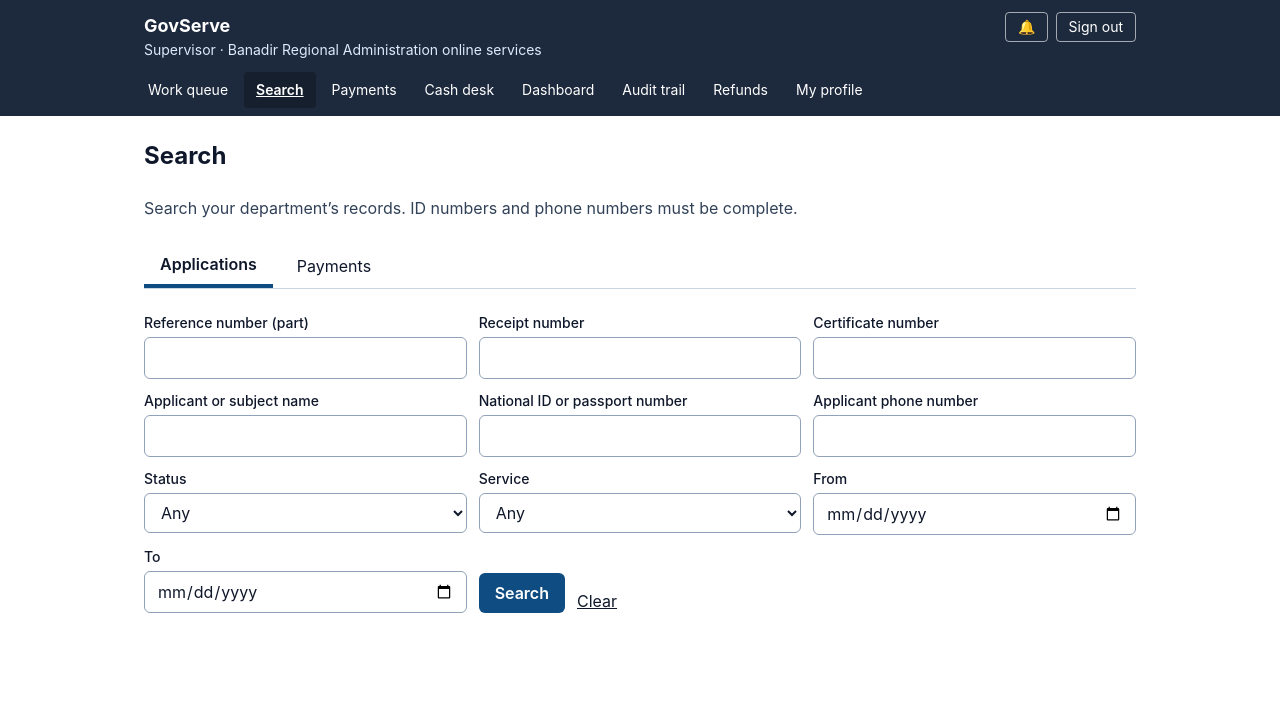
Test case: staff search › should convert the amount range to integer cents and offer supervisors the export
The width and height of the screenshot is (1280, 720).
Click the tab "Payments" at (334, 266), box [281, 244, 387, 288]
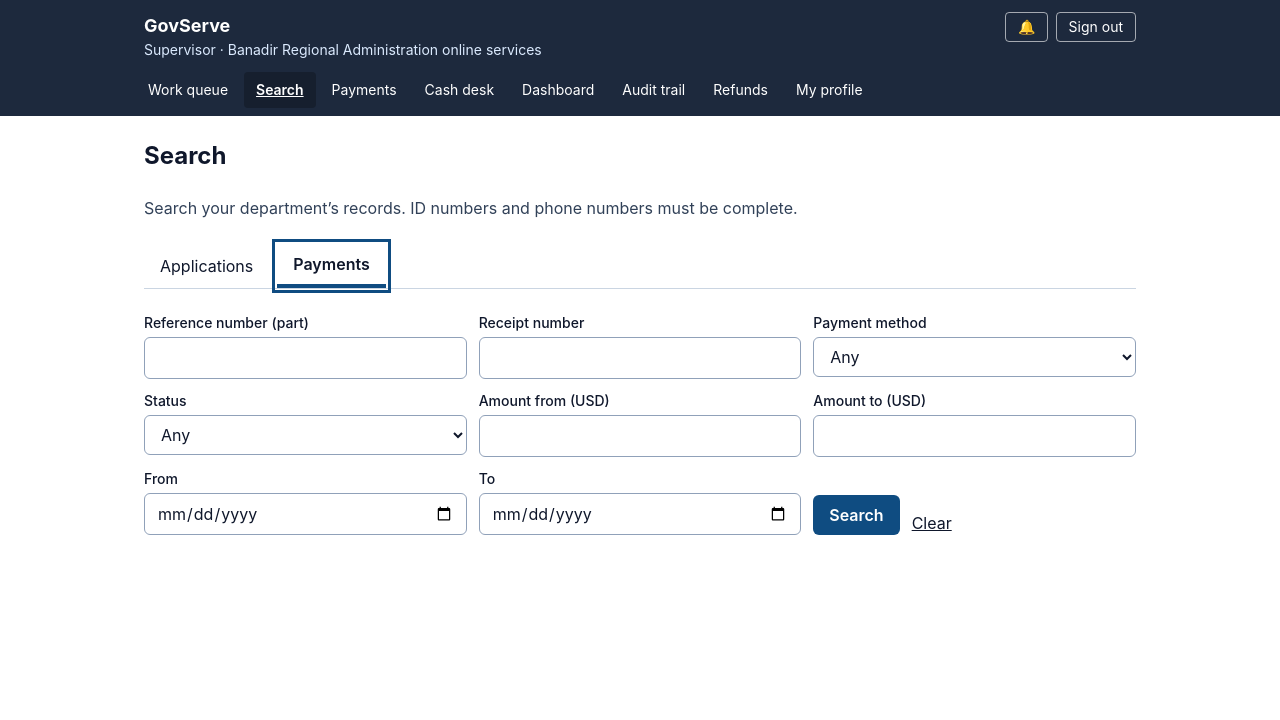
Type "0.1" into the field labelled "Amount from (USD)" at (640, 436), box [479, 415, 801, 457]
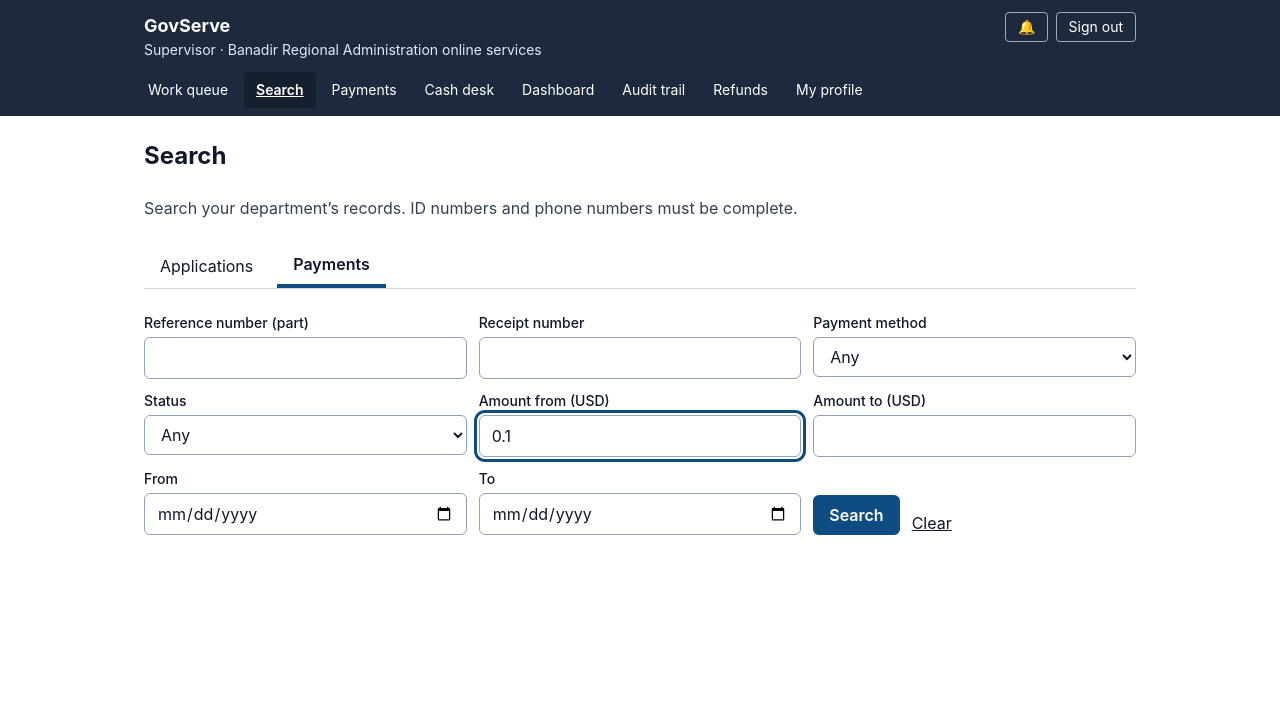
Click the button "Search" at (856, 515), box [813, 495, 900, 535]
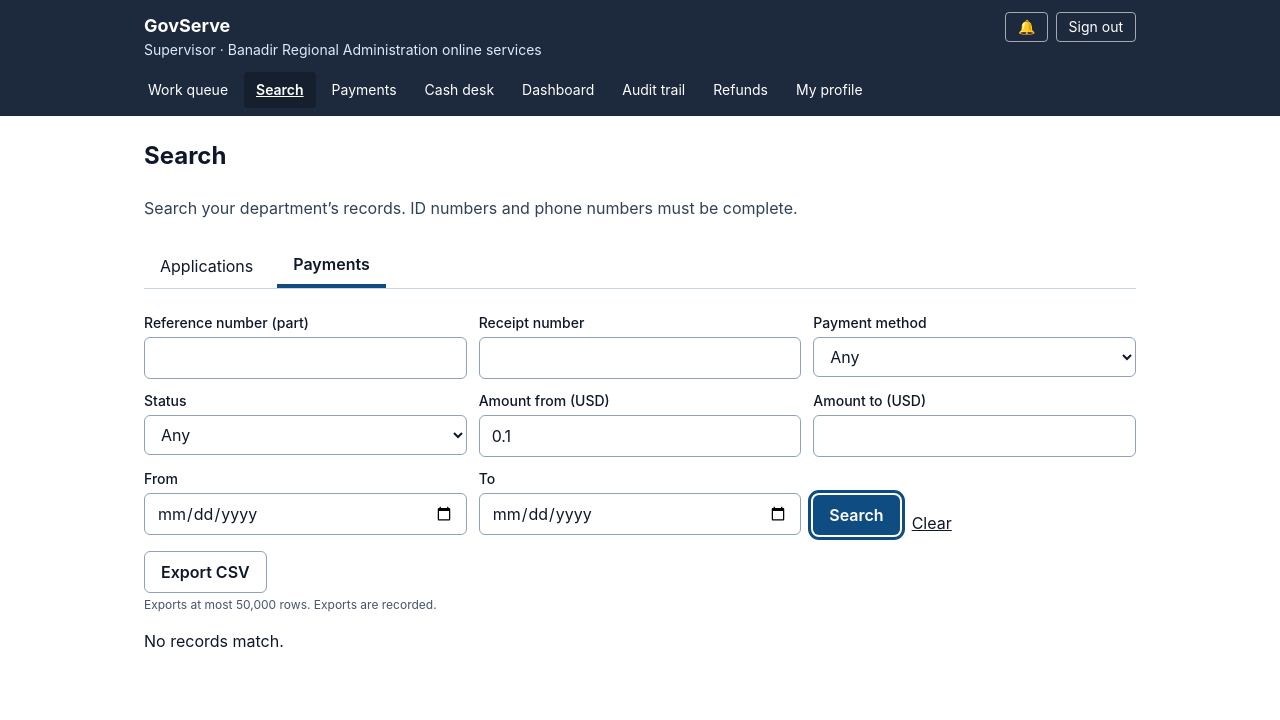
Now the text "No records match." is shown, box [144, 631, 284, 651]
Now the button "Export CSV" is shown, box [144, 551, 267, 593]
Type "12.345" into the field labelled "Amount to (USD)" at (975, 436), box [813, 415, 1136, 457]
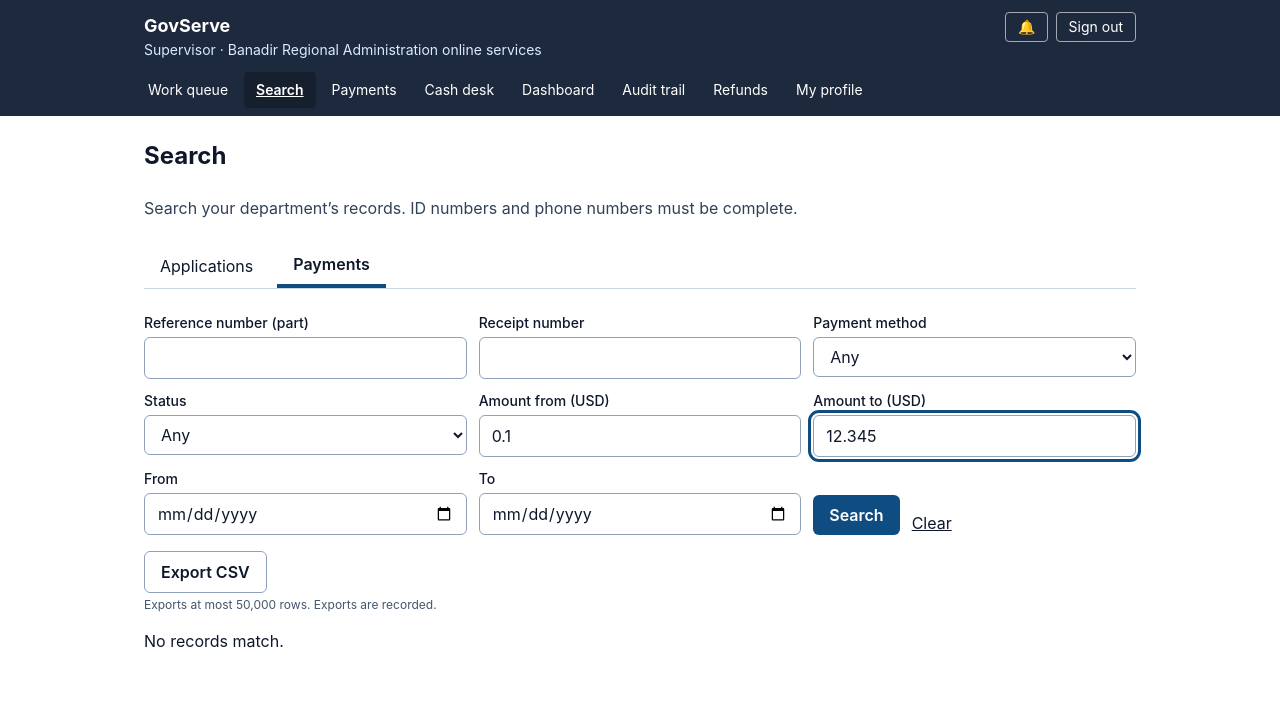
Click the button "Search" at (856, 515), box [813, 495, 900, 535]
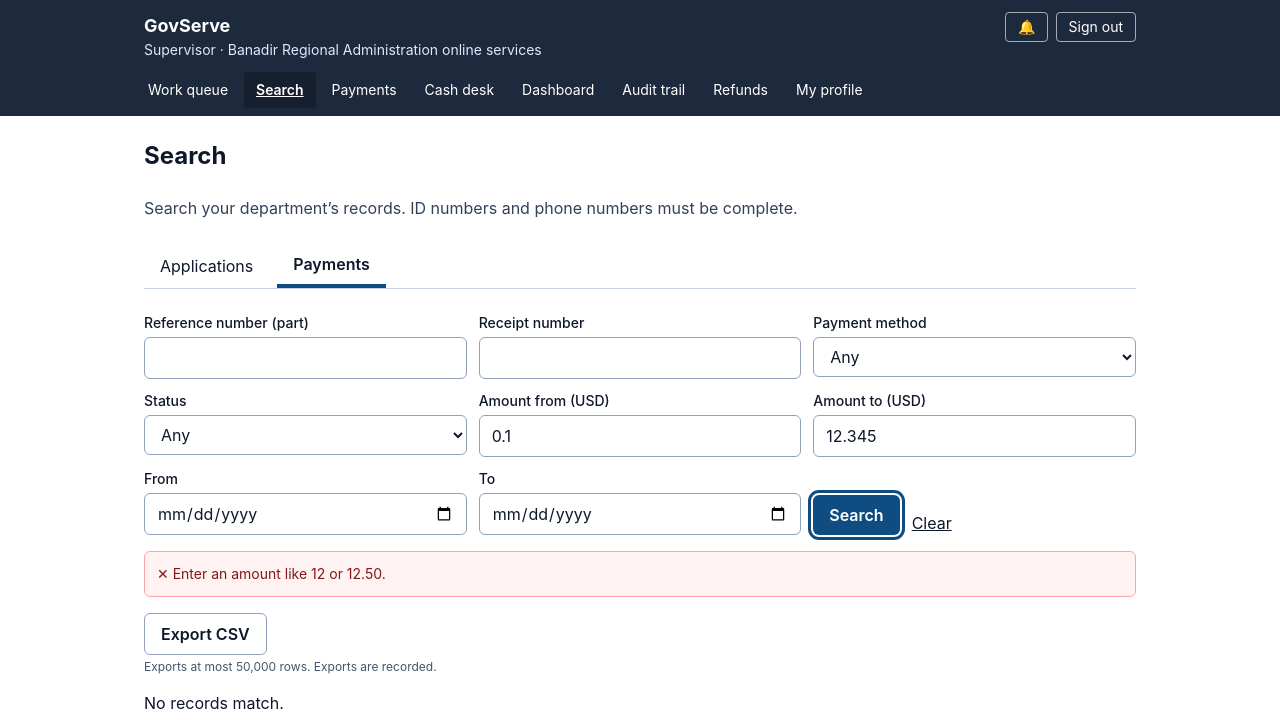
Now the text "Enter an amount like 12 or 12.50." is shown, box [173, 565, 386, 582]
